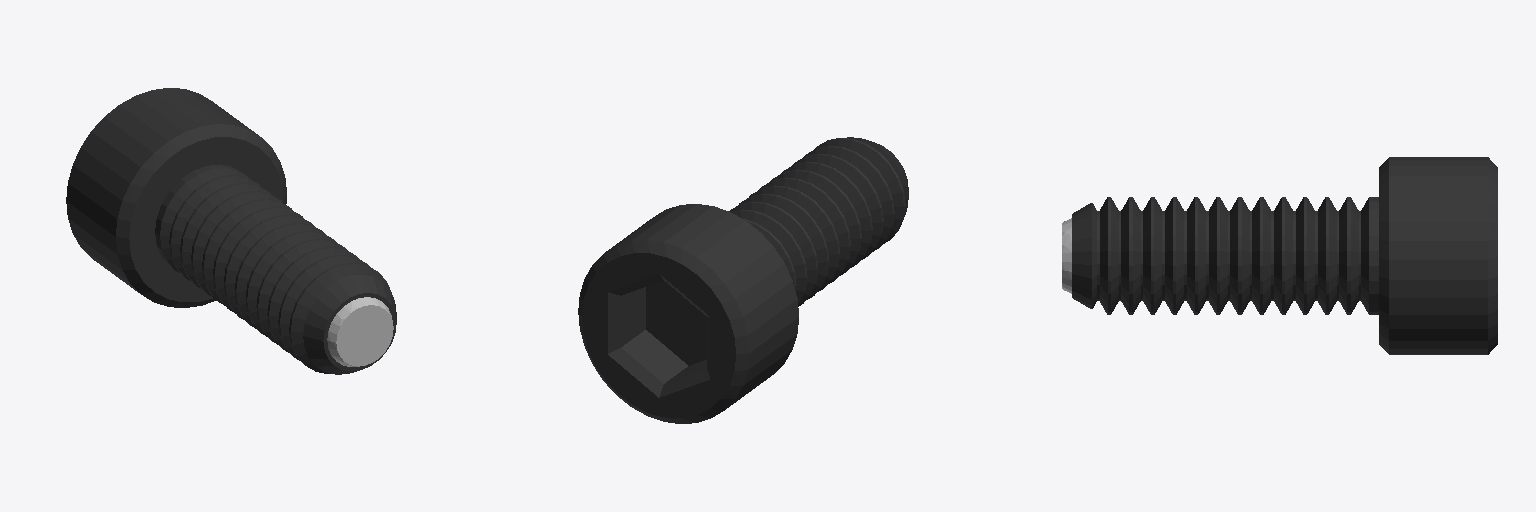
The model's file is bcf-6x16.obj.
3 views of the same model, side by side, from view 1: azimuth 30°, elevation 25°; view 2: azimuth 150°, elevation 25°; view 3: azimuth 270°, elevation 25° (orthographic).
Parts seen in each view (by area): view 1: bcf-6x16_1; view 2: bcf-6x16_1; view 3: bcf-6x16_1.
Boxes of the visible parts, x1=… form: bcf-6x16_1: x1=66, y1=88, x2=396, y2=374; bcf-6x16_1: x1=578, y1=137, x2=908, y2=423; bcf-6x16_1: x1=1062, y1=157, x2=1497, y2=354.
Bounding box in the file's own units: 10 × 10 × 22.